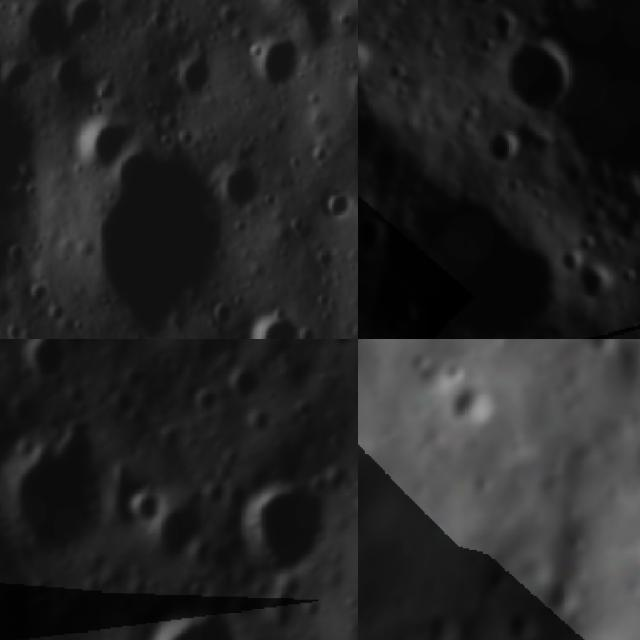crater: (44, 141, 219, 339), (0, 430, 108, 559), (231, 476, 330, 583), (500, 32, 589, 107), (246, 28, 314, 98), (76, 106, 141, 176), (147, 497, 210, 568), (212, 159, 278, 224), (132, 608, 244, 640), (163, 48, 218, 108), (224, 348, 271, 407), (239, 305, 304, 339), (121, 480, 168, 527), (21, 339, 73, 379), (315, 182, 358, 230), (454, 381, 492, 432), (422, 603, 474, 640), (546, 579, 584, 619), (188, 383, 222, 426), (581, 264, 619, 302), (489, 122, 523, 164), (499, 606, 541, 640), (358, 216, 391, 256), (154, 418, 190, 454), (270, 603, 301, 632), (122, 360, 150, 390), (124, 400, 153, 427), (317, 339, 358, 358), (358, 41, 374, 84), (292, 388, 318, 414), (578, 232, 607, 255), (582, 339, 619, 356), (152, 347, 178, 371), (552, 250, 582, 270), (478, 35, 500, 56), (0, 343, 7, 386), (387, 0, 409, 13), (434, 41, 448, 61), (624, 264, 640, 281), (400, 86, 412, 102)
